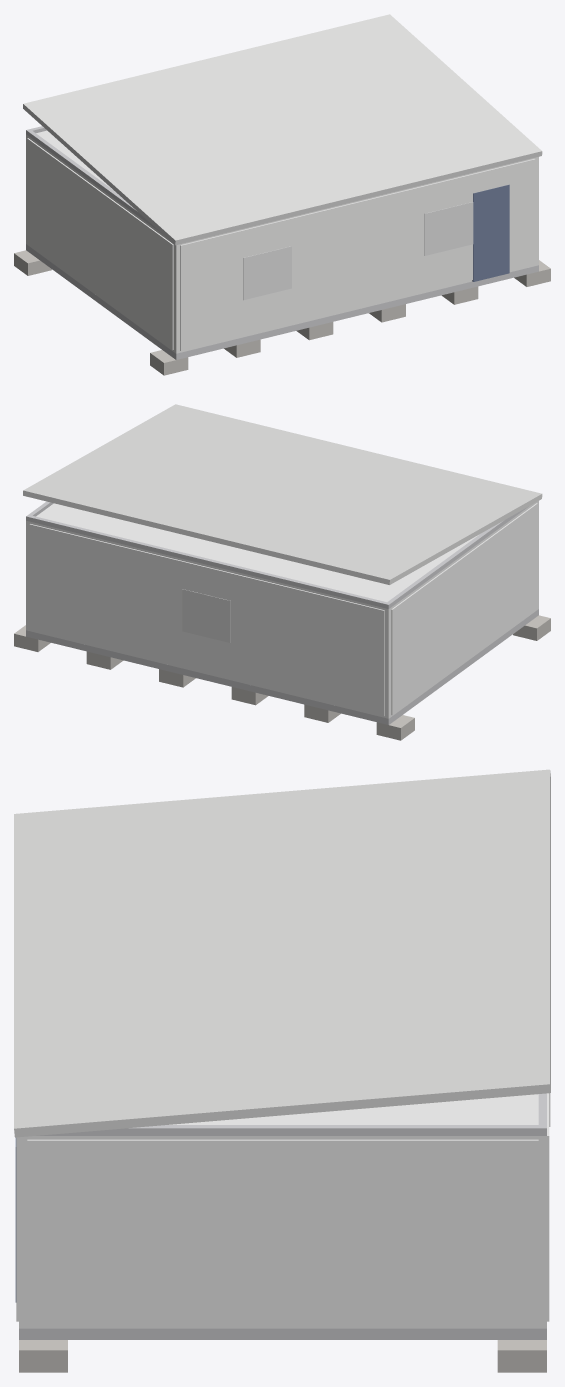
File: Studio-30-SlopingRoof-LOD0.glb
3 renders of one model, top to bottom at view 1: azimuth 30°, elevation 25°; view 2: azimuth 150°, elevation 25°; view 3: azimuth 270°, elevation 25°, orthographic. The views are drawn at different scales.
Parts seen in each view (by area): view 1: RoofSlopingUpgrade, ExteriorPanelsStandard, WindowsStandard, BaseFrame, FoundationBlocks, ExteriorShell, EntryDoor, TopFrame, InteriorCeiling; view 2: ExteriorPanelsStandard, RoofSlopingUpgrade, InteriorCeiling, ExteriorShell, TopFrame, BaseFrame, FoundationBlocks, WindowsStandard; view 3: RoofSlopingUpgrade, ExteriorPanelsStandard, ExteriorShell, BaseFrame, InteriorCeiling, TopFrame, FoundationBlocks.
Part boxes in pixels (box(x1,y1,x2,y2)): RoofSlopingUpgrade: box(23, 14, 542, 245); ExteriorPanelsStandard: box(27, 138, 535, 350); WindowsStandard: box(243, 202, 473, 300); BaseFrame: box(26, 244, 538, 359); FoundationBlocks: box(14, 250, 550, 375); ExteriorShell: box(26, 134, 538, 353); EntryDoor: box(472, 184, 509, 281); TopFrame: box(26, 126, 161, 233); InteriorCeiling: box(36, 130, 112, 189); ExteriorPanelsStandard: box(29, 503, 537, 715); RoofSlopingUpgrade: box(23, 404, 542, 584); InteriorCeiling: box(36, 503, 479, 601); ExteriorShell: box(26, 501, 538, 718); TopFrame: box(26, 501, 528, 608); BaseFrame: box(26, 609, 538, 724); FoundationBlocks: box(14, 615, 550, 740); WindowsStandard: box(182, 589, 230, 642); RoofSlopingUpgrade: box(14, 769, 550, 1137); ExteriorPanelsStandard: box(16, 1093, 549, 1325); ExteriorShell: box(19, 1136, 546, 1328); BaseFrame: box(19, 1328, 546, 1339); InteriorCeiling: box(169, 1094, 538, 1124); TopFrame: box(36, 1093, 546, 1135); FoundationBlocks: box(19, 1340, 546, 1372).
Bounding box in the file's own units: 9.6 × 3.77 × 6.56.
